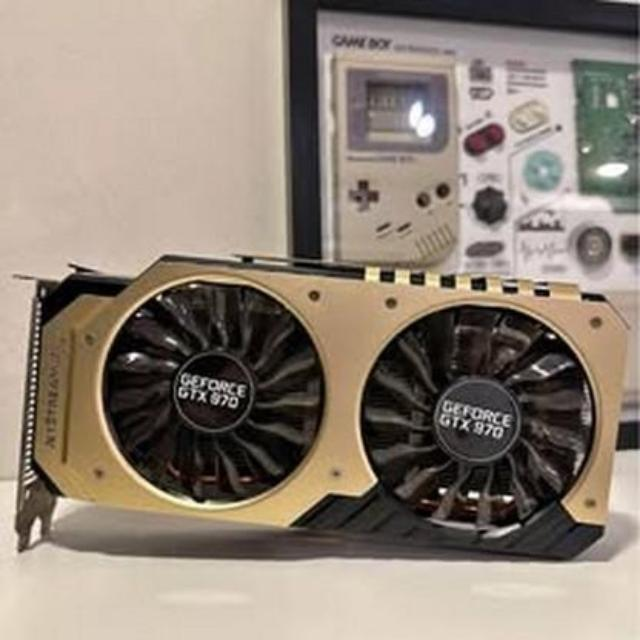GPU: (12, 244, 630, 573)
